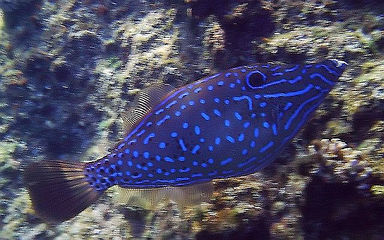Aluterus_scriptus: (17, 57, 346, 224)
